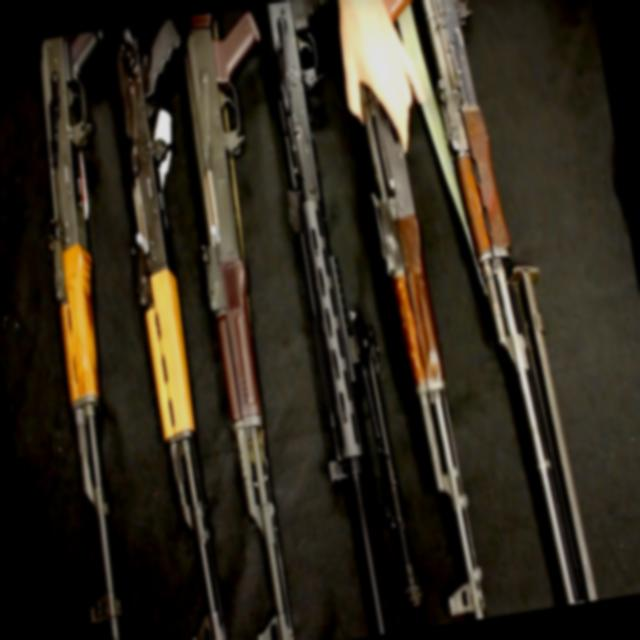ak: (324, 0, 522, 627)
